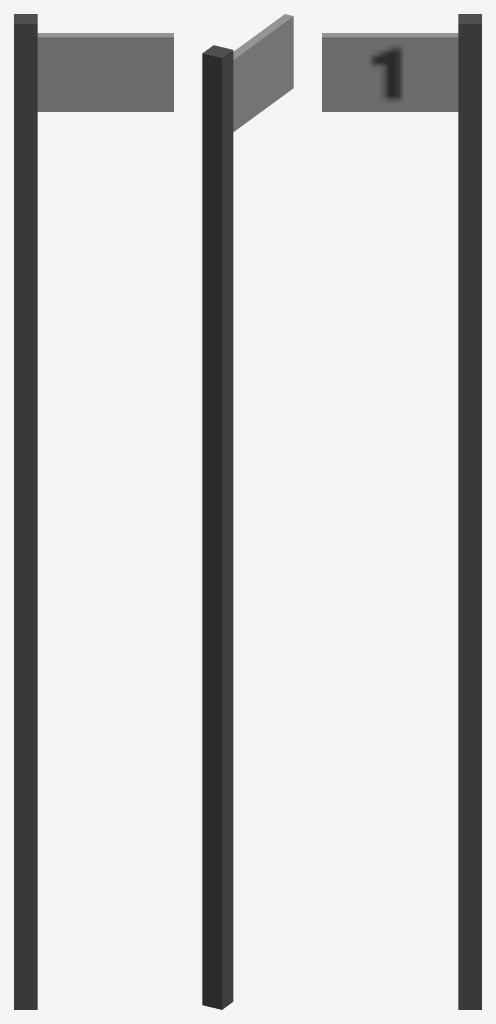
The model's file is SM_Props_Interior_SuperMarket_CheckoutCounter_Sign.fbx.
The picture shows the model from 3 angles, left to right: view 1: azimuth 90°, elevation 25°; view 2: azimuth 150°, elevation 25°; view 3: azimuth 270°, elevation 25°; orthographic projection. The views are drawn at different scales.
Visible parts, largest first — view 1: SM_Props_Interior_SuperMarket_CheckoutCounter_Sign; view 2: SM_Props_Interior_SuperMarket_CheckoutCounter_Sign; view 3: SM_Props_Interior_SuperMarket_CheckoutCounter_Sign.
Part boxes in pixels (x1,y1,x2,y2): SM_Props_Interior_SuperMarket_CheckoutCounter_Sign: (14, 14, 173, 1009); SM_Props_Interior_SuperMarket_CheckoutCounter_Sign: (202, 14, 293, 1009); SM_Props_Interior_SuperMarket_CheckoutCounter_Sign: (322, 14, 481, 1009).
Bounding box in the file's own units: 4 × 184 × 27.04.
